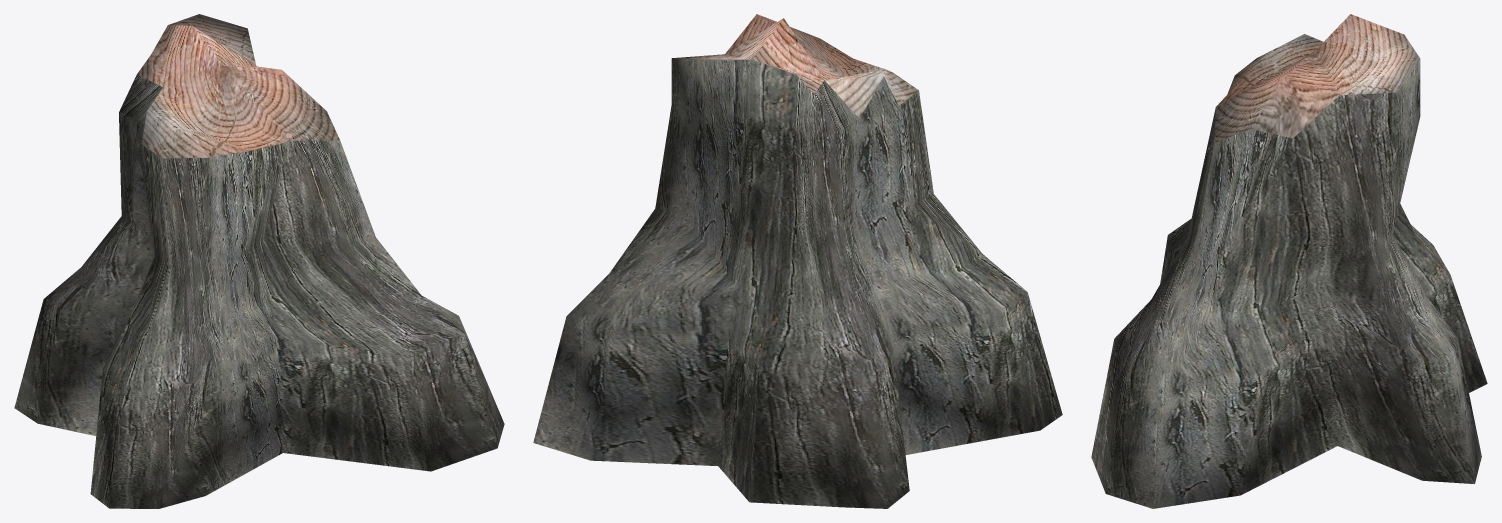
Rendered from decd_stump_med_l0.fbx.
3 renders of one model, left to right at view 1: azimuth 30°, elevation 25°; view 2: azimuth 150°, elevation 25°; view 3: azimuth 270°, elevation 25°, orthographic. The views are drawn at different scales.
Parts seen in each view (by area): view 1: mesh_node; view 2: mesh_node; view 3: mesh_node.
Part boxes in pixels (x1,y1,x2,y2): mesh_node: (14, 14, 504, 508); mesh_node: (533, 14, 1062, 508); mesh_node: (1091, 14, 1487, 508).
Size of the model in its own units: 3.13 by 2.96 by 2.75.
